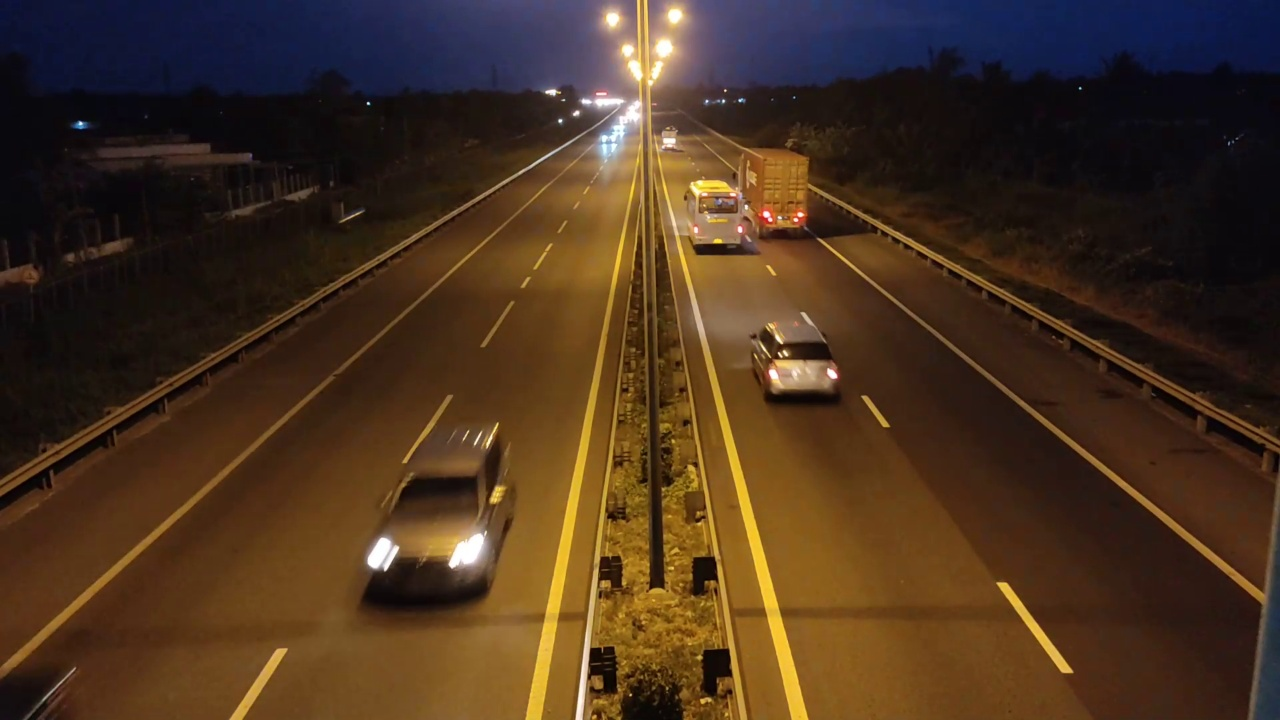bus: (684, 178, 759, 255)
car: (361, 405, 517, 605), (749, 312, 841, 401)
truck: (735, 145, 809, 240)
